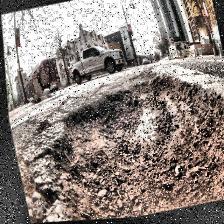pothole: (26, 56, 224, 222)
